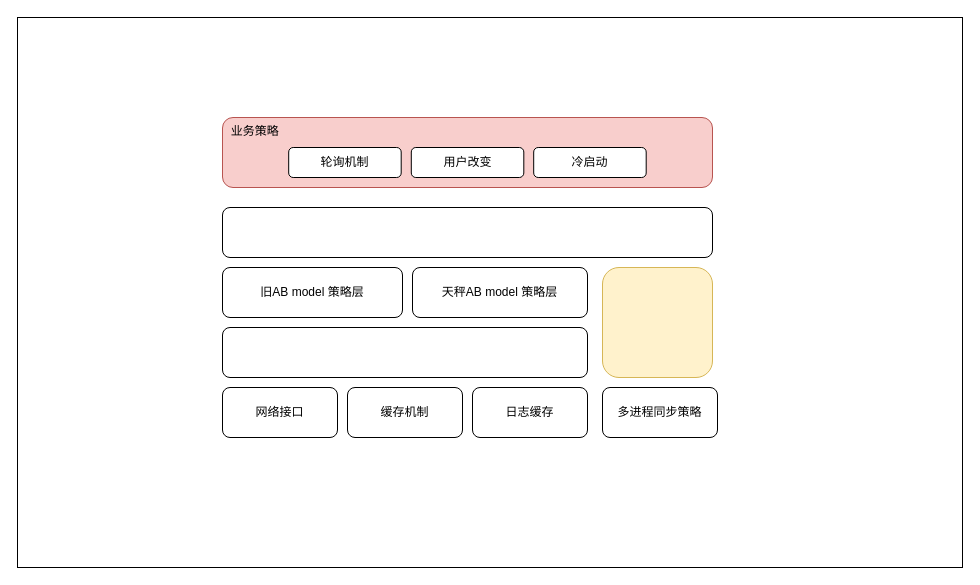
This 980x585 diagram has some shape labels left out. Each missing label, with the centre of its shape:
IABModel 抽象层: point 405,352
processor 注册机制: point 657,322
对外接口层: point 467,232
